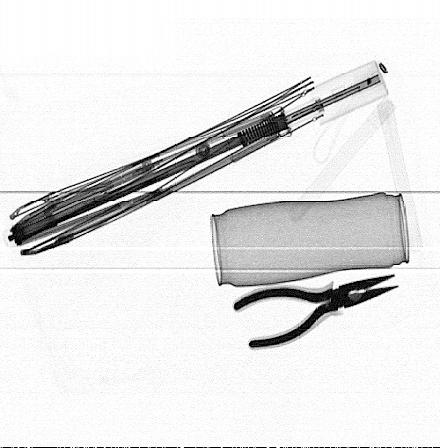Pliers: (231, 273, 402, 349)
